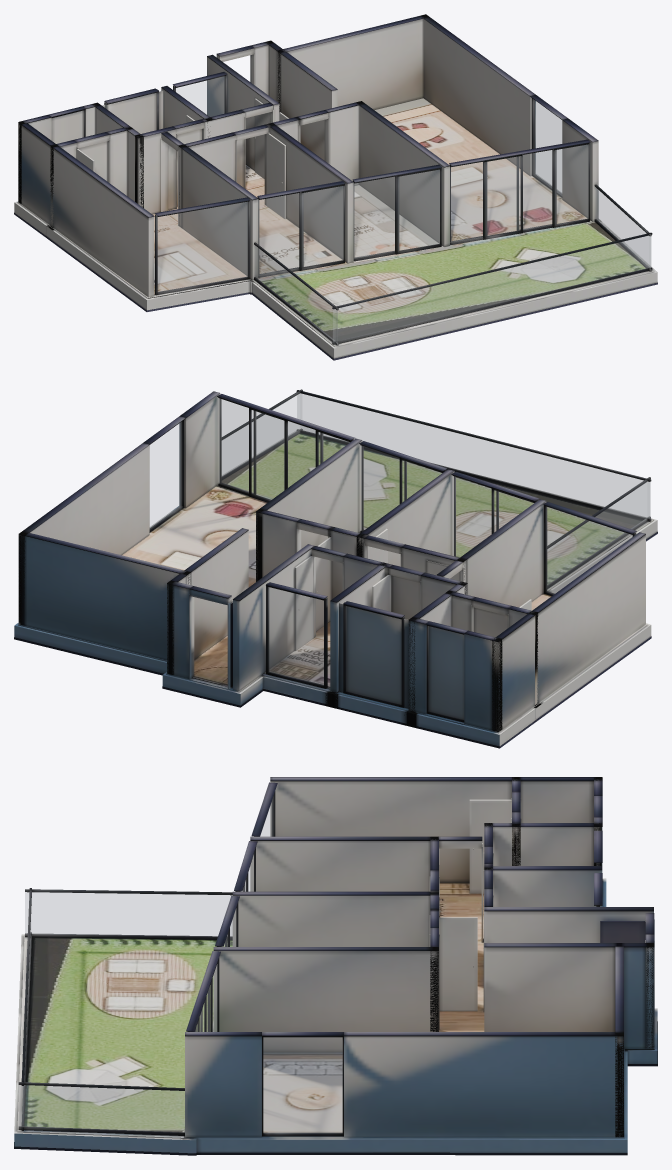
3 views of the same model, one above another, from view 1: azimuth 30°, elevation 25°; view 2: azimuth 150°, elevation 25°; view 3: azimuth 270°, elevation 25° (orthographic). The views are drawn at different scales.
Visible parts, largest first — view 1: plan, railg1_m, glass1_m, glass4_m, glass2_m, glass3_m, railg2_m, glass0_m, railg0_m, glass7_m; view 2: plan, railg1_m, glass1_m, glass7_m, glass6_m, glass4_m, railg2_m, glass2_m, glass3_m, glass5_m, glass0_m, railg0_m; view 3: plan, railg2_m, glass0_m, railg0_m.
Boxes of the visible parts, x1=… form: plan: x1=14, y1=14, x2=657, y2=360; railg1_m: x1=333, y1=236, x2=651, y2=341; glass1_m: x1=450, y1=145, x2=588, y2=242; glass4_m: x1=158, y1=202, x2=247, y2=292; glass2_m: x1=354, y1=170, x2=439, y2=258; glass3_m: x1=258, y1=186, x2=343, y2=274; railg2_m: x1=255, y1=246, x2=337, y2=342; glass0_m: x1=534, y1=100, x2=561, y2=193; railg0_m: x1=595, y1=188, x2=650, y2=268; glass7_m: x1=176, y1=76, x2=224, y2=116; plan: x1=14, y1=389, x2=657, y2=748; railg1_m: x1=297, y1=393, x2=650, y2=518; glass1_m: x1=219, y1=398, x2=349, y2=499; glass7_m: x1=269, y1=587, x2=323, y2=685; glass6_m: x1=346, y1=606, x2=400, y2=703; glass4_m: x1=546, y1=507, x2=632, y2=593; railg2_m: x1=548, y1=482, x2=649, y2=584; glass2_m: x1=361, y1=446, x2=441, y2=530; glass3_m: x1=453, y1=476, x2=533, y2=557; glass5_m: x1=429, y1=627, x2=463, y2=719; glass0_m: x1=150, y1=422, x2=181, y2=528; railg0_m: x1=222, y1=393, x2=301, y2=476; plan: x1=14, y1=777, x2=657, y2=1155; railg2_m: x1=25, y1=892, x2=231, y2=936; glass0_m: x1=263, y1=1037, x2=342, y2=1133; railg0_m: x1=19, y1=1085, x2=184, y2=1132.
Bounding box in the file's own units: 12.51 × 2.62 × 12.96.
Materials: 2 (1 with a texture image).
